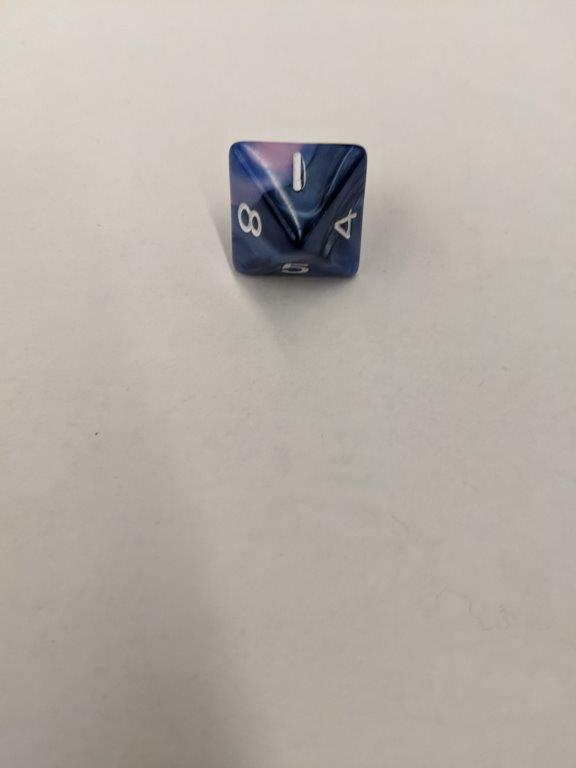d8-1: (226, 139, 363, 280)
